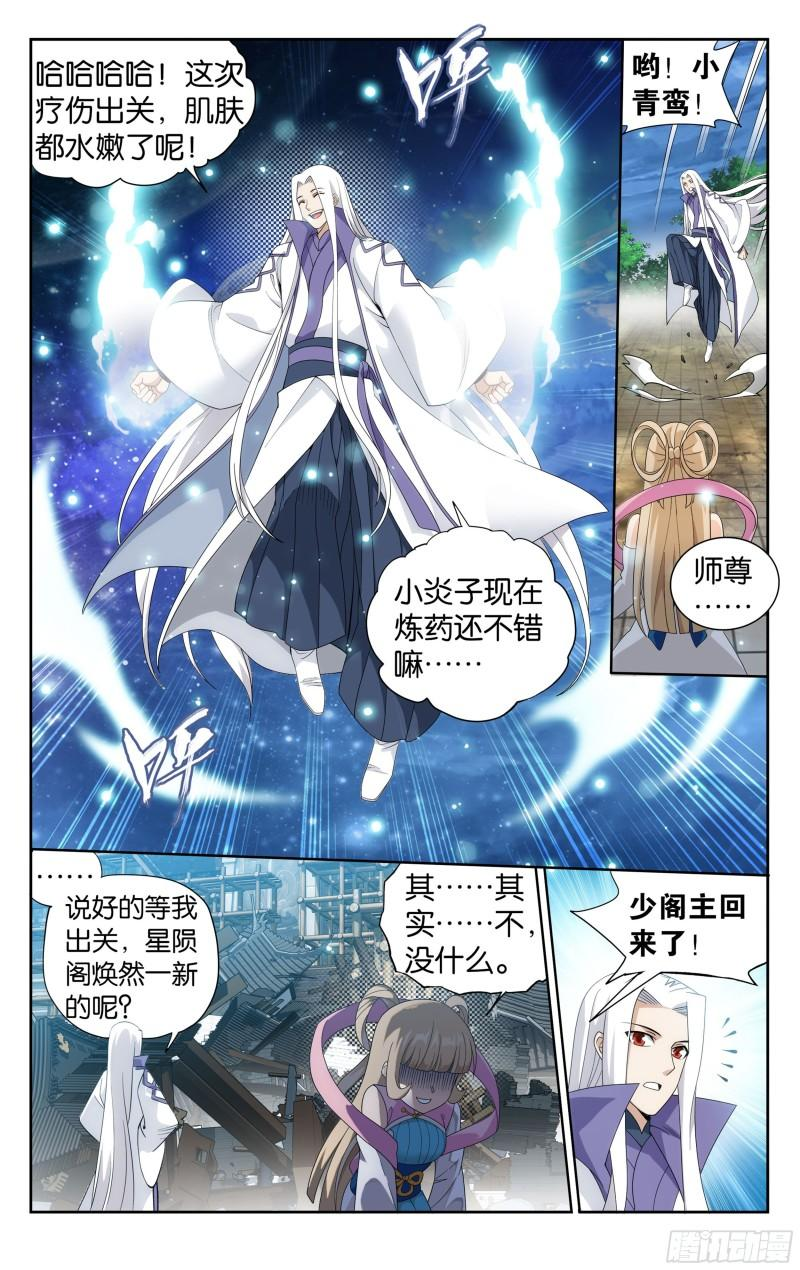boxBomb: (570, 862, 771, 1018), (620, 34, 740, 139)
boxEllipse: (42, 889, 219, 1042), (378, 856, 552, 997), (666, 532, 783, 631), (27, 847, 96, 889)
boxWave: (357, 502, 576, 720), (27, 35, 261, 188)
minBox: (24, 32, 777, 879), (21, 841, 576, 1222), (609, 29, 780, 679), (537, 859, 777, 1219)
